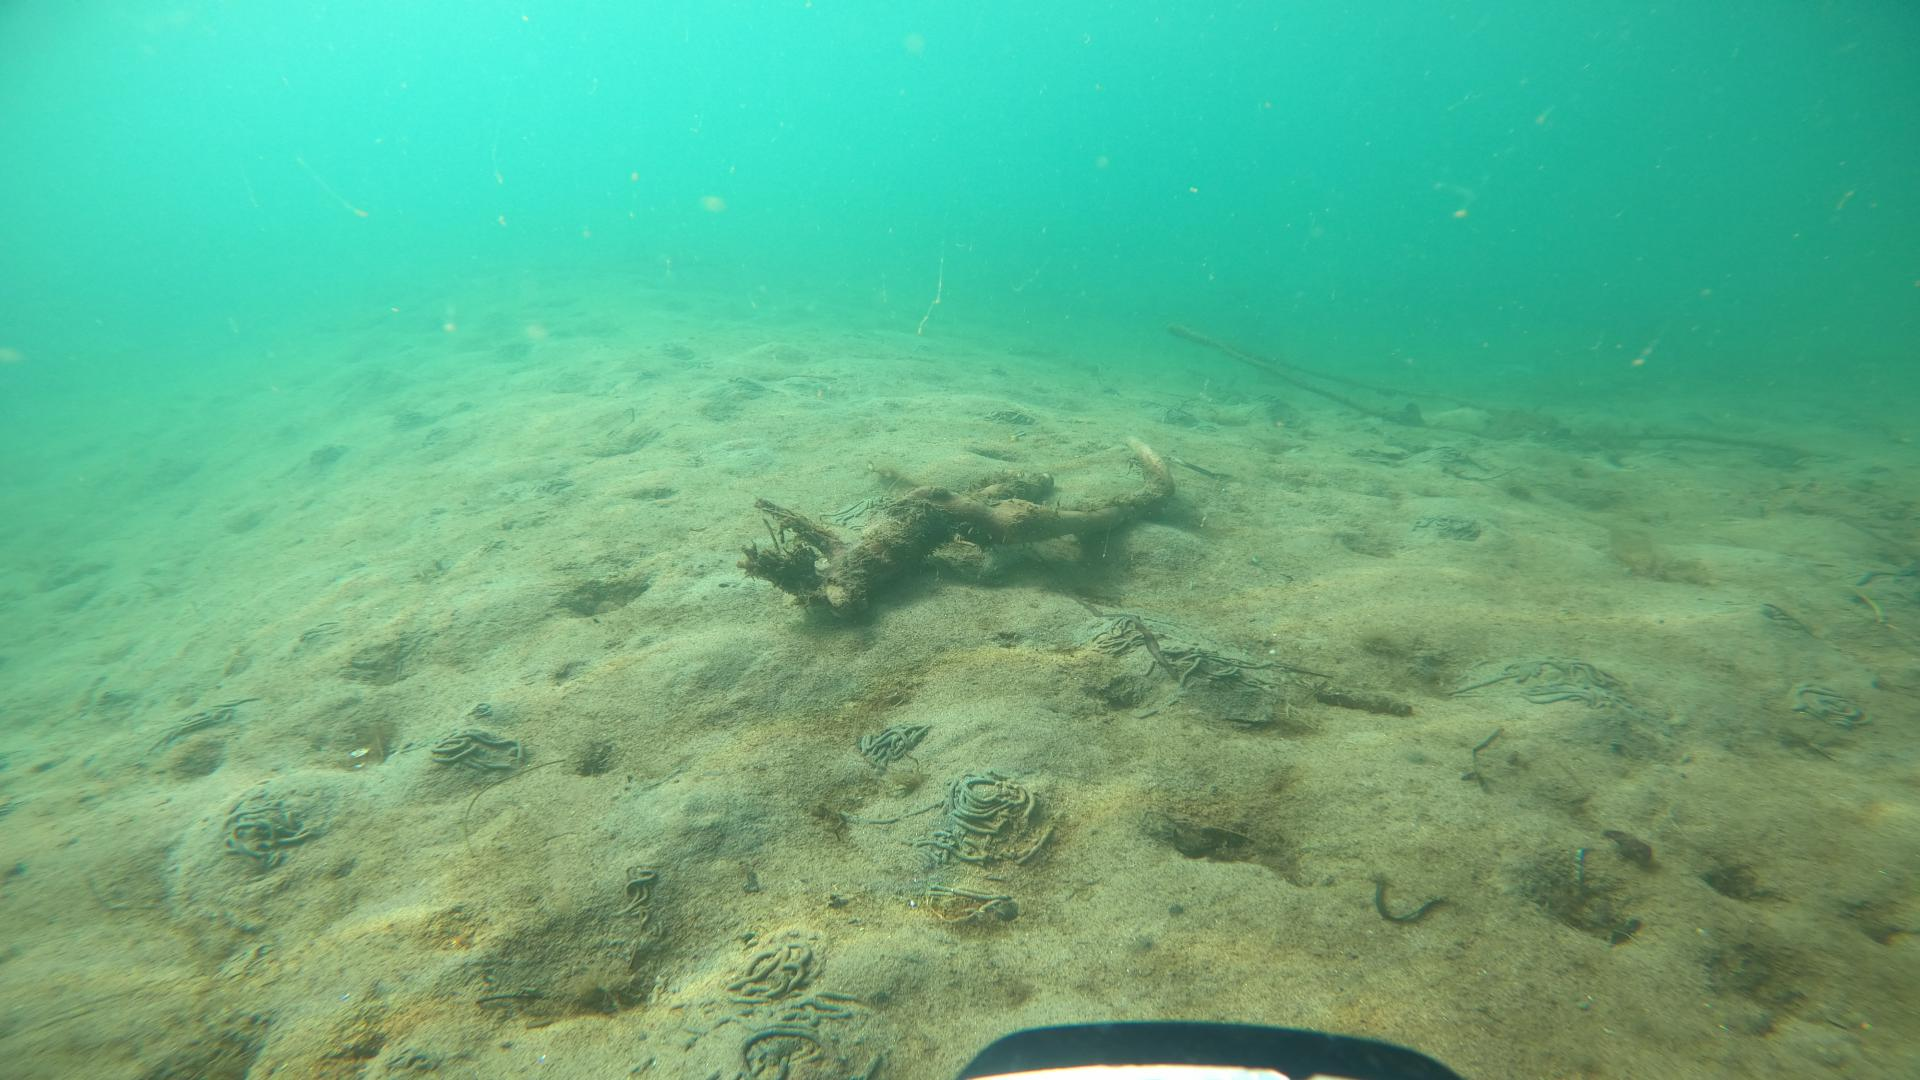wood: (741, 434, 1175, 615)
